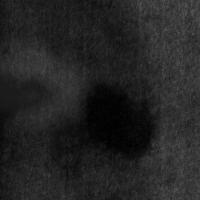patches: (1, 3, 151, 153), (0, 32, 76, 126), (25, 0, 123, 64), (82, 83, 155, 160), (1, 68, 51, 123)
